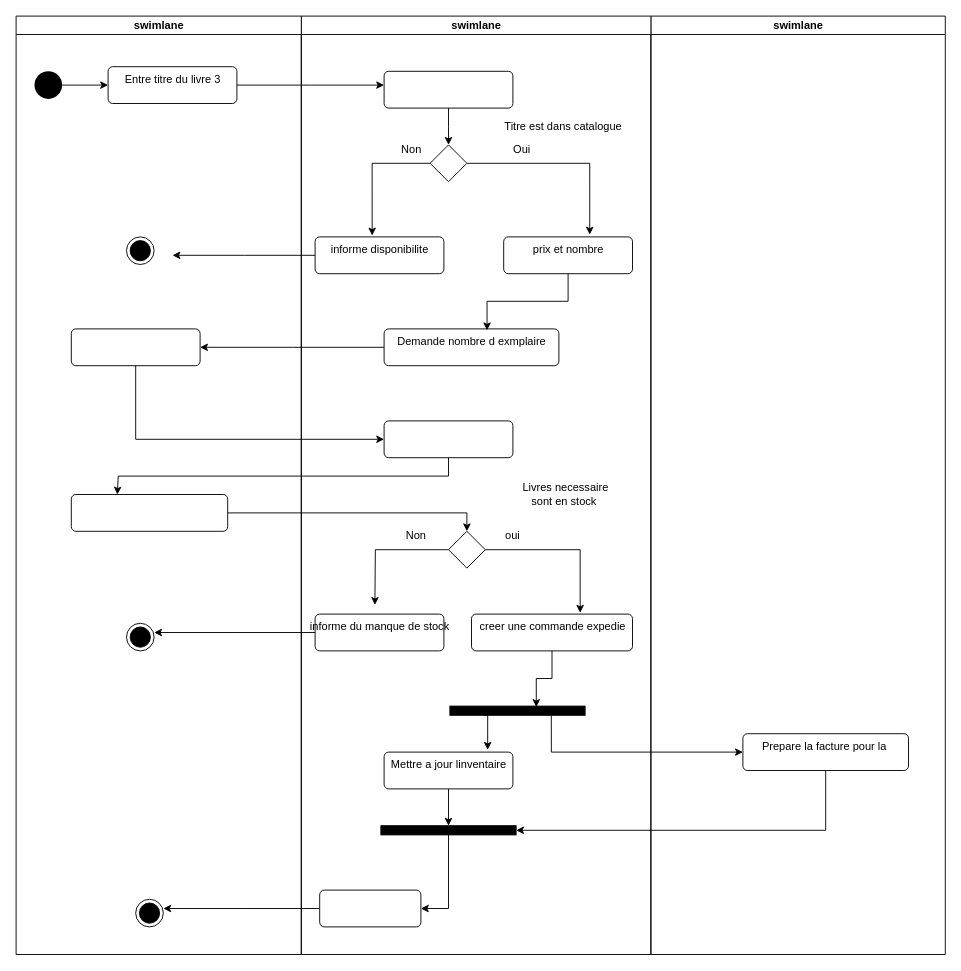
The diagram is 961 pixels wide and 971 high, and some of its shapes have lost their labels. The box of each missing label's shape, as (x1, y1, x2, y2) in pixels:
Demmande le nom et adre sse dexpedition: (383, 420, 513, 458)
Entre le nombre de copies: (70, 328, 200, 366)
Entree le nom et adresse: (70, 494, 228, 531)
Generer affichage: (319, 889, 421, 927)
Recherche titre: (383, 70, 513, 108)
